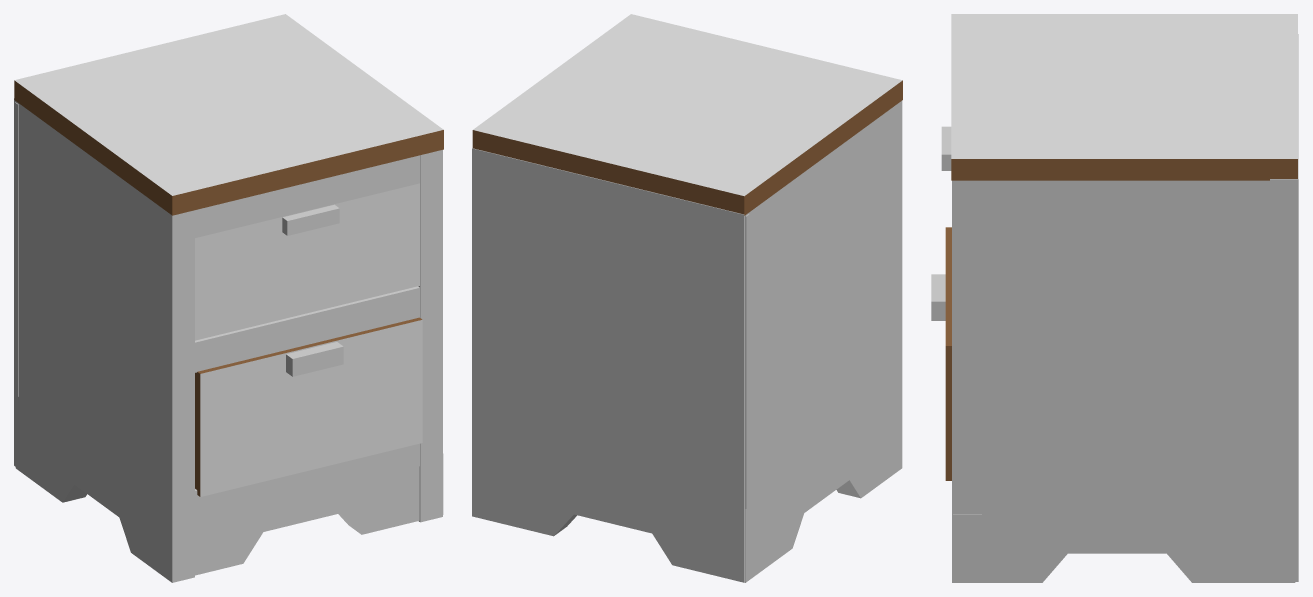
Rendered from bedside_table_tier5.fbx.
3 views of the same model, side by side, from view 1: azimuth 30°, elevation 25°; view 2: azimuth 150°, elevation 25°; view 3: azimuth 270°, elevation 25° (orthographic). The views are drawn at different scales.
Visible parts, largest first — view 1: Cube.009; view 2: Cube.009; view 3: Cube.009.
Boxes of the visible parts, left/top/right/bottom form: Cube.009: left=14, top=14, right=443, bottom=582; Cube.009: left=472, top=14, right=902, bottom=582; Cube.009: left=931, top=14, right=1298, bottom=582.
Size of the model in its own units: 74.79 by 102 by 79.82.
